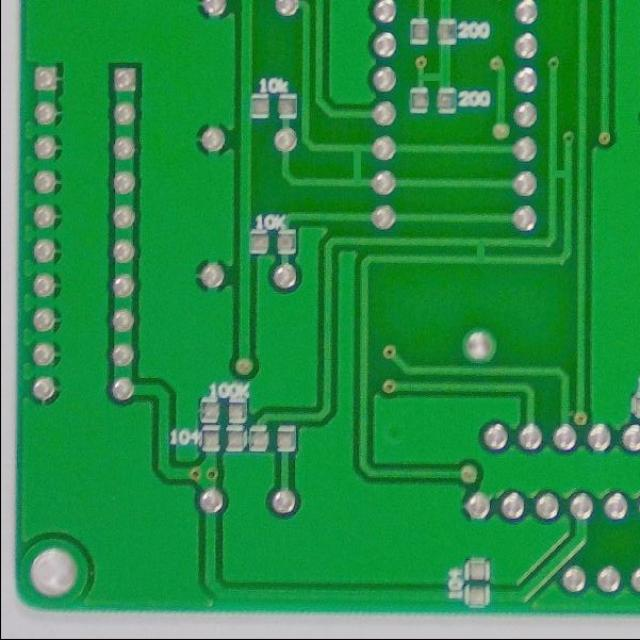Short_Circuit: (338, 134, 372, 194), (464, 230, 498, 268), (412, 64, 456, 87), (544, 161, 576, 187)
